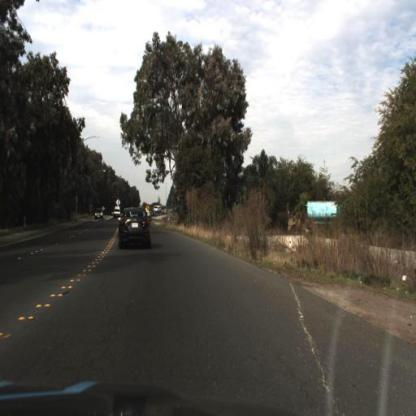car: (120, 207, 154, 251), (95, 209, 105, 221)
